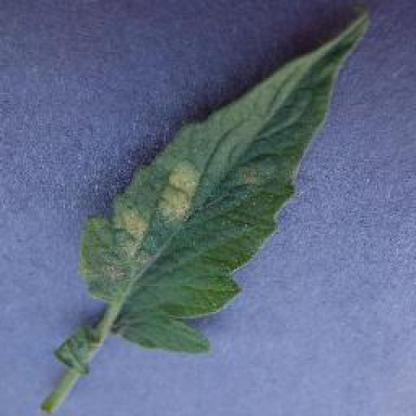Tomato_Leaf_Mold: (84, 4, 370, 324)
